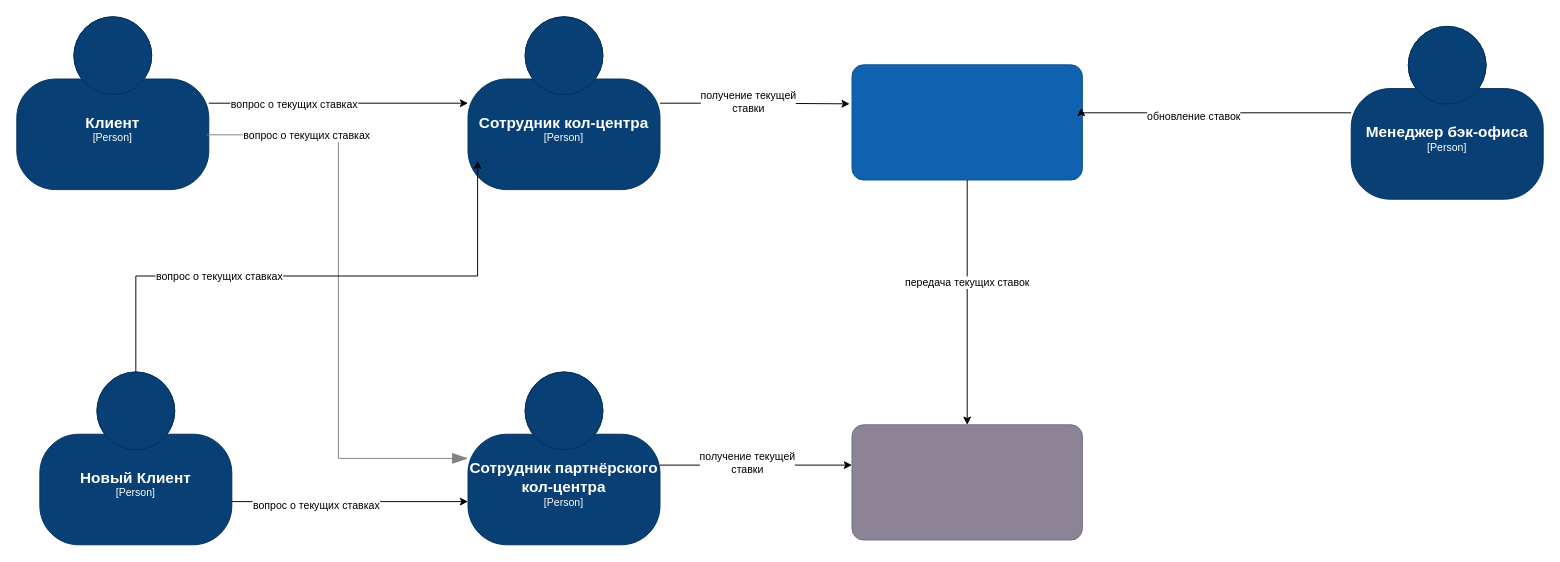
The diagram is 1560 pixels wide and 562 high, and some of its shapes have lost their labels. Here are the shapes that lost their labels. From the top down, the box of each, then its label:
(851, 64, 1082, 180): IT система банка [Software System]
(851, 424, 1082, 540): Система партнёрского кол-центра [Software System]
